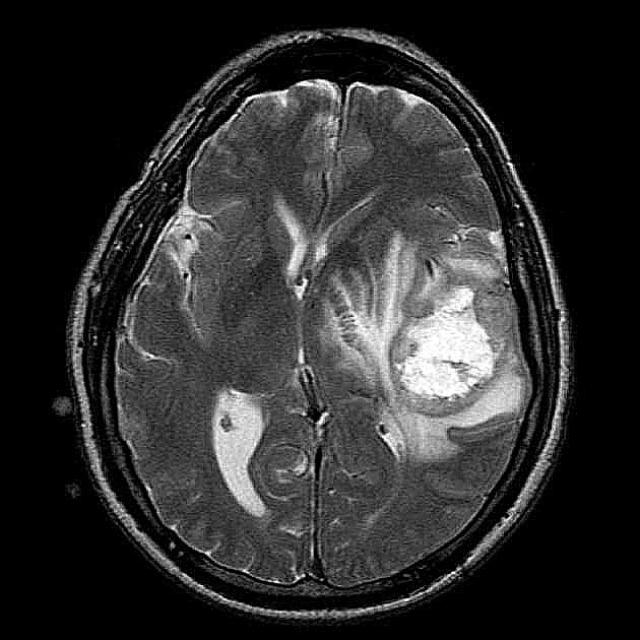Tumor-Cell: (358, 238, 502, 406)
